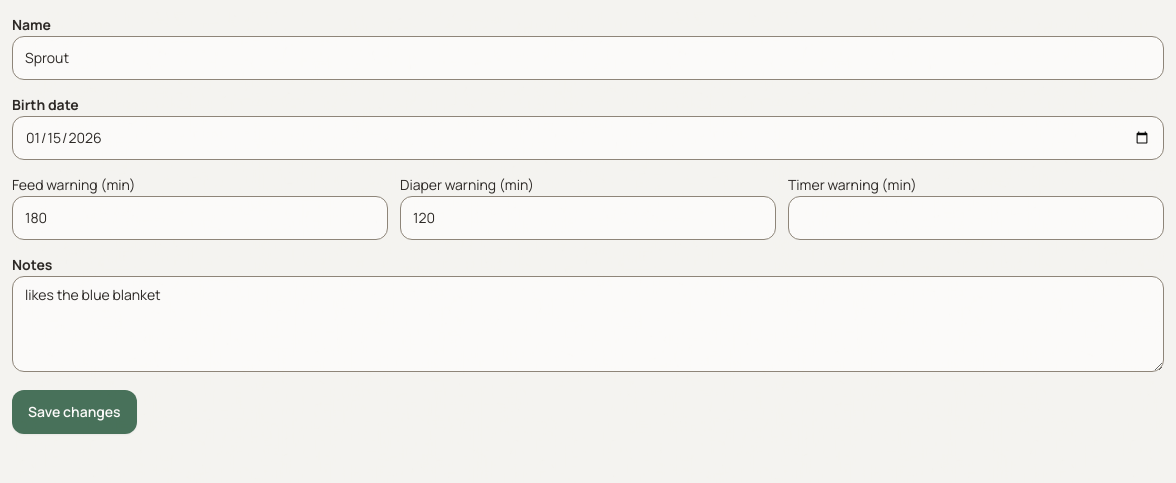
Test: the baby edit form › survives an unreachable server without claiming success
Replace the text in the field labelled "Name" with "Rosie" at (588, 58), box [12,36,1164,80]
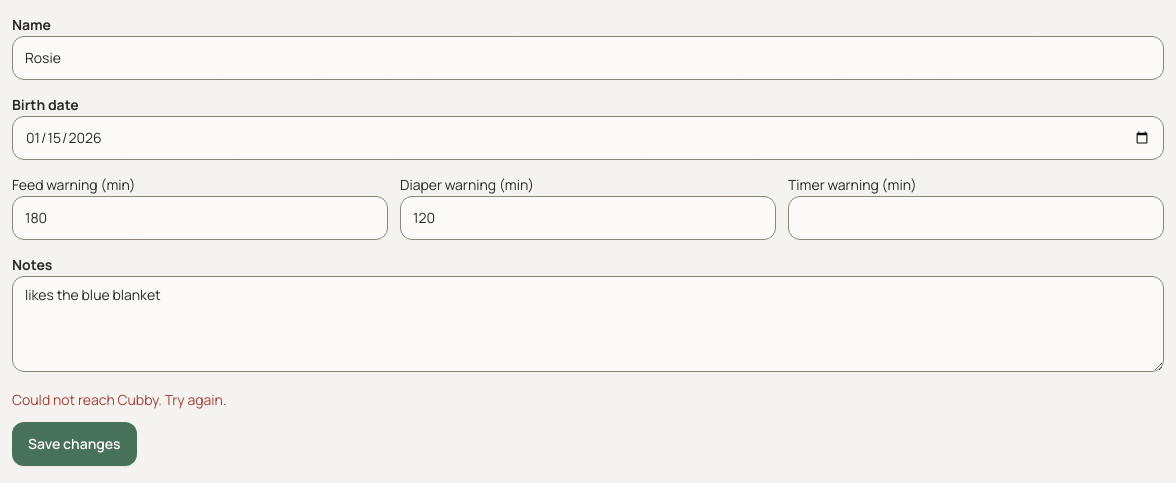
Check: the message reads "Could not reach Cubby. Try again.", box [12,390,226,409]
